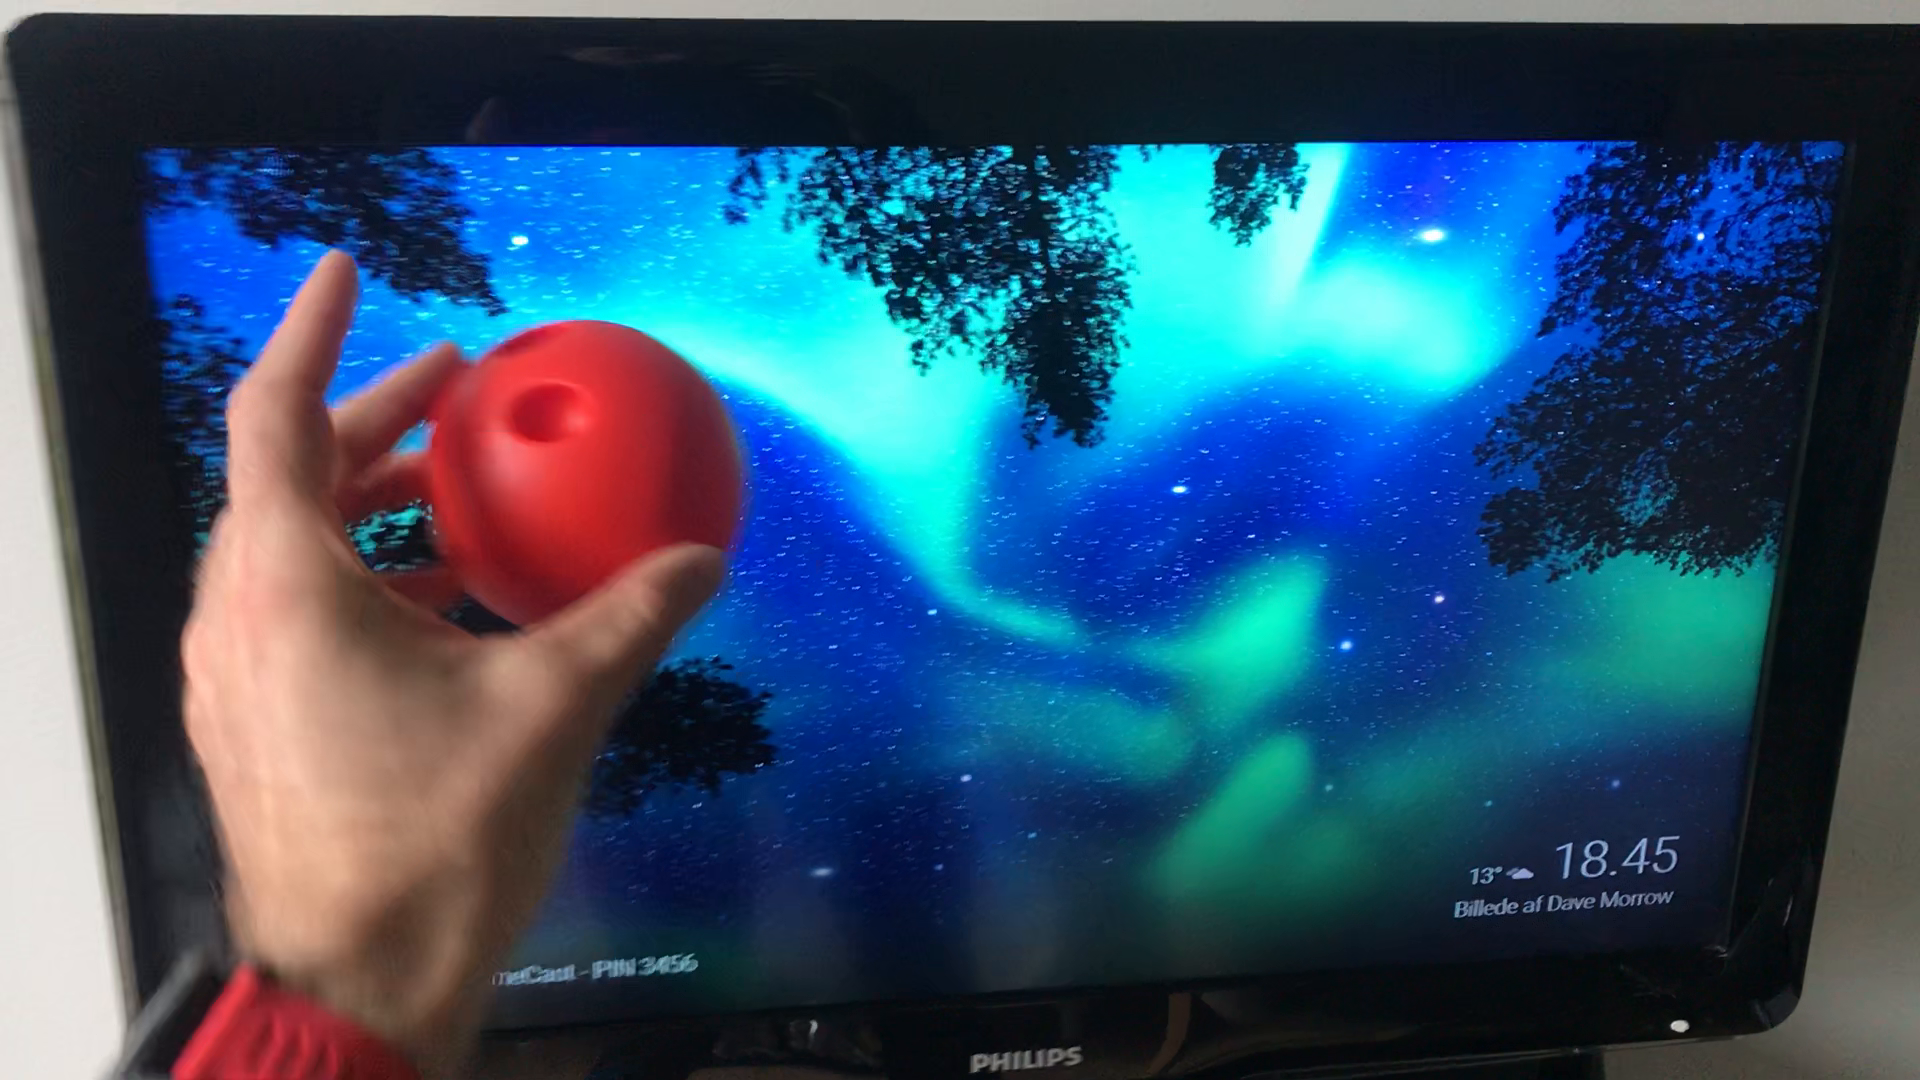Ball: (429, 320, 748, 644)
